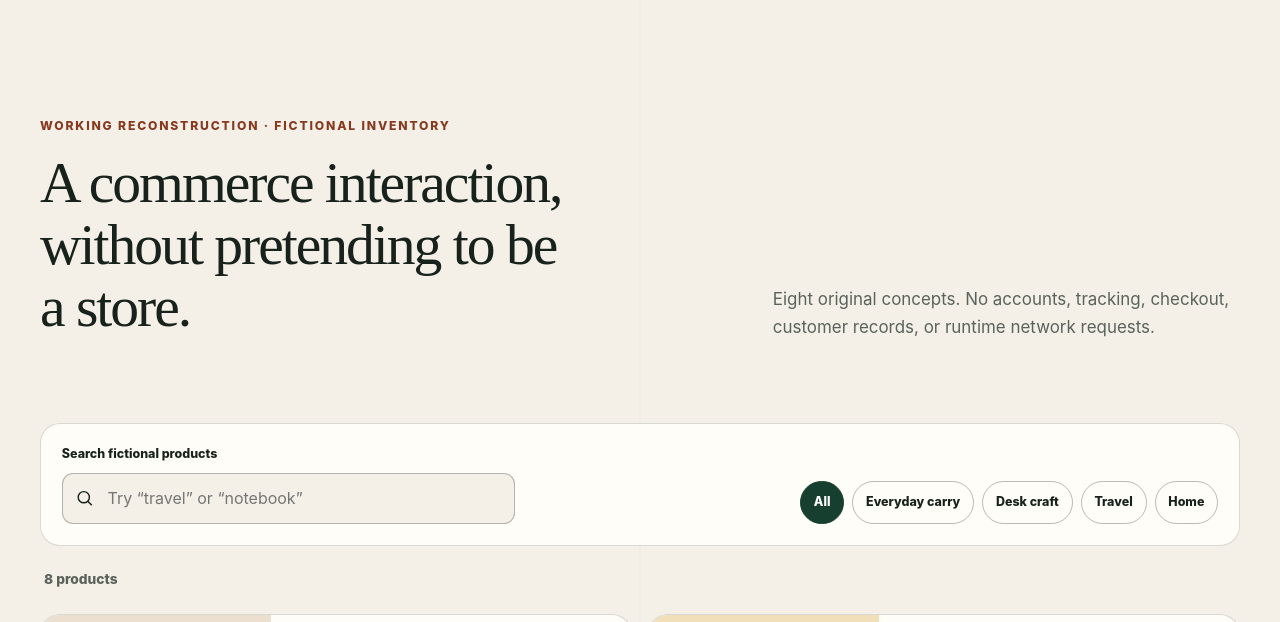
Test case: Catalog › renders a recoverable empty state and clears active controls
Step 1. Type "nothing matches" into the search field labelled "Search fictional products" → (288, 498), box [62,473,515,524]
(page scrolled)
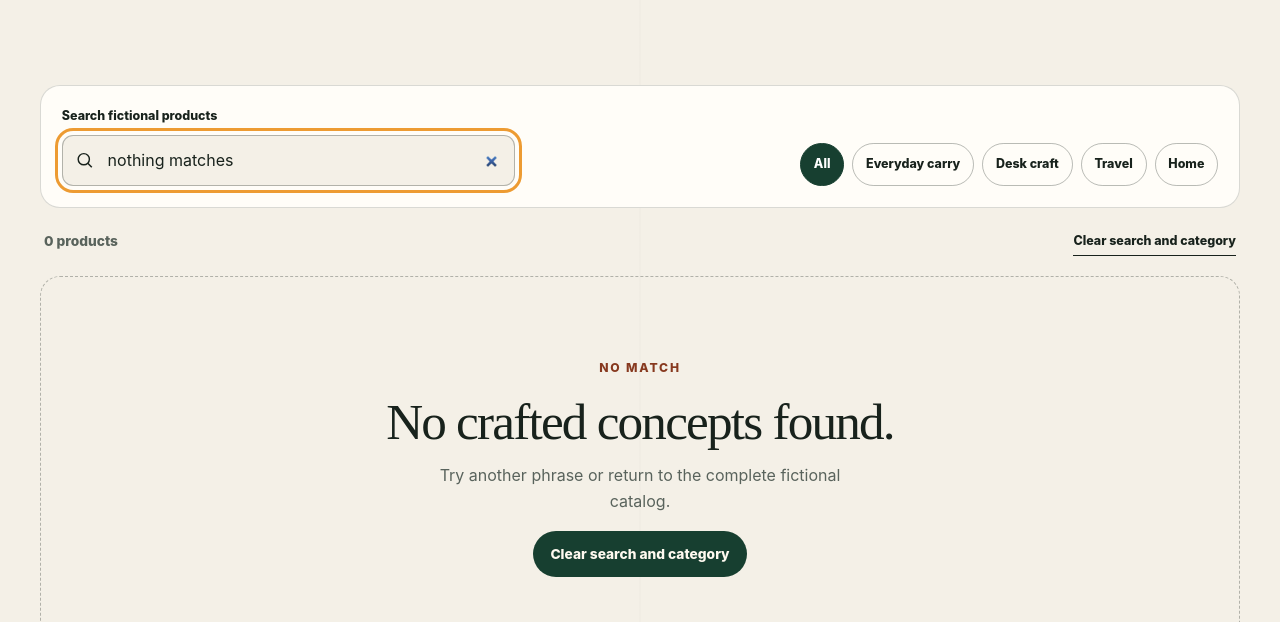
Now the heading "No crafted concepts found." is shown, box [386,394,894,449]
Step 2. Click the button "Clear search and category" below "No crafted concepts found." → (640, 554), box [533,531,747,577]
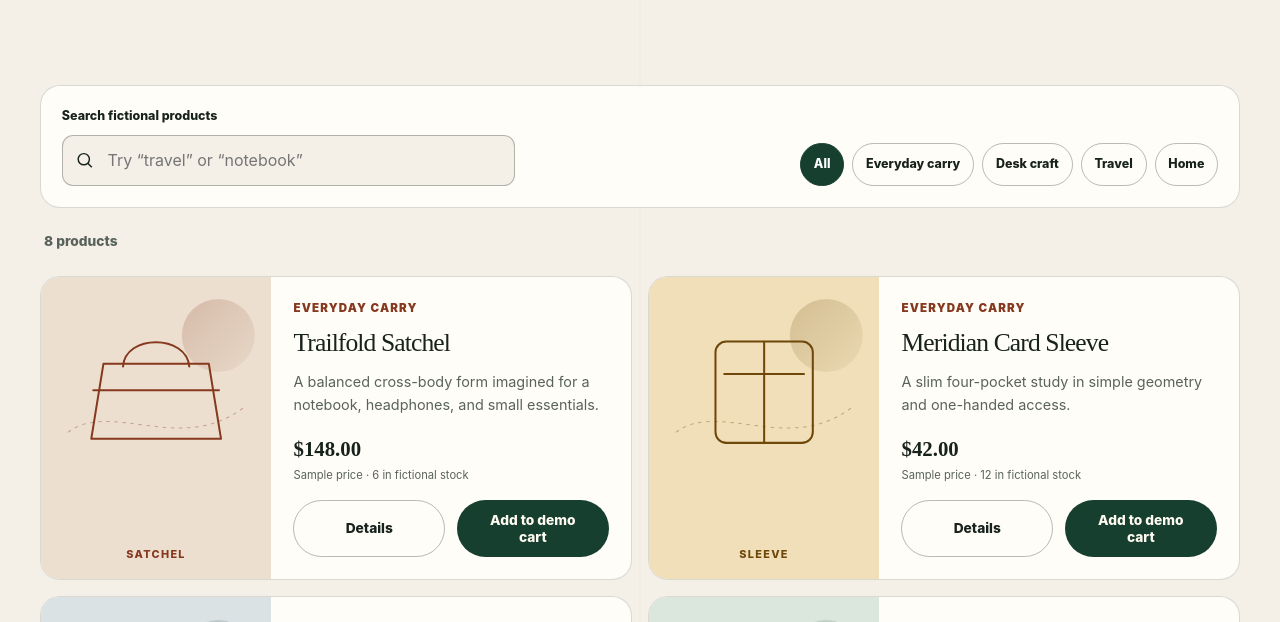
Now the text "8 products" is shown, box [44,230,118,253]
